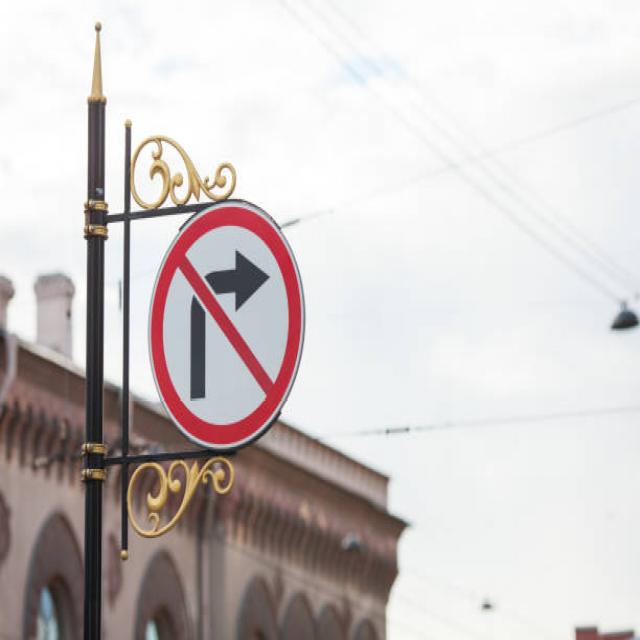do_not_turn_right: (142, 192, 312, 458)
